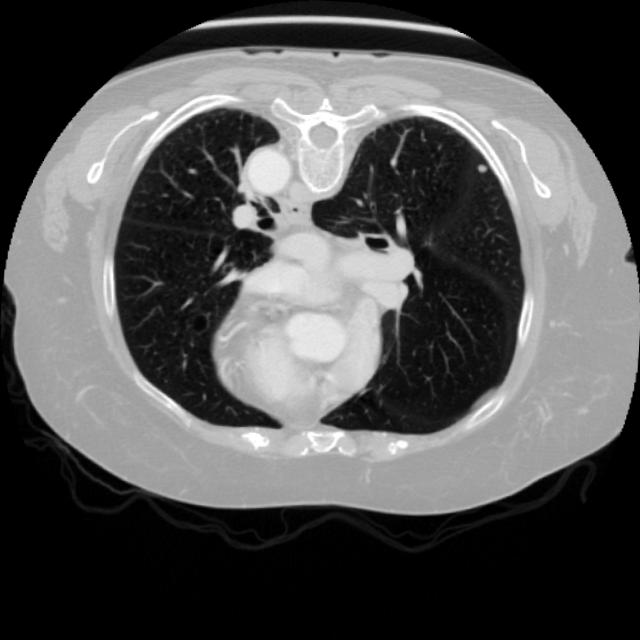nodule: (472, 158, 494, 181)
